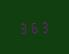six: (29, 20, 38, 33)
three: (18, 20, 27, 34), (39, 19, 48, 33)
